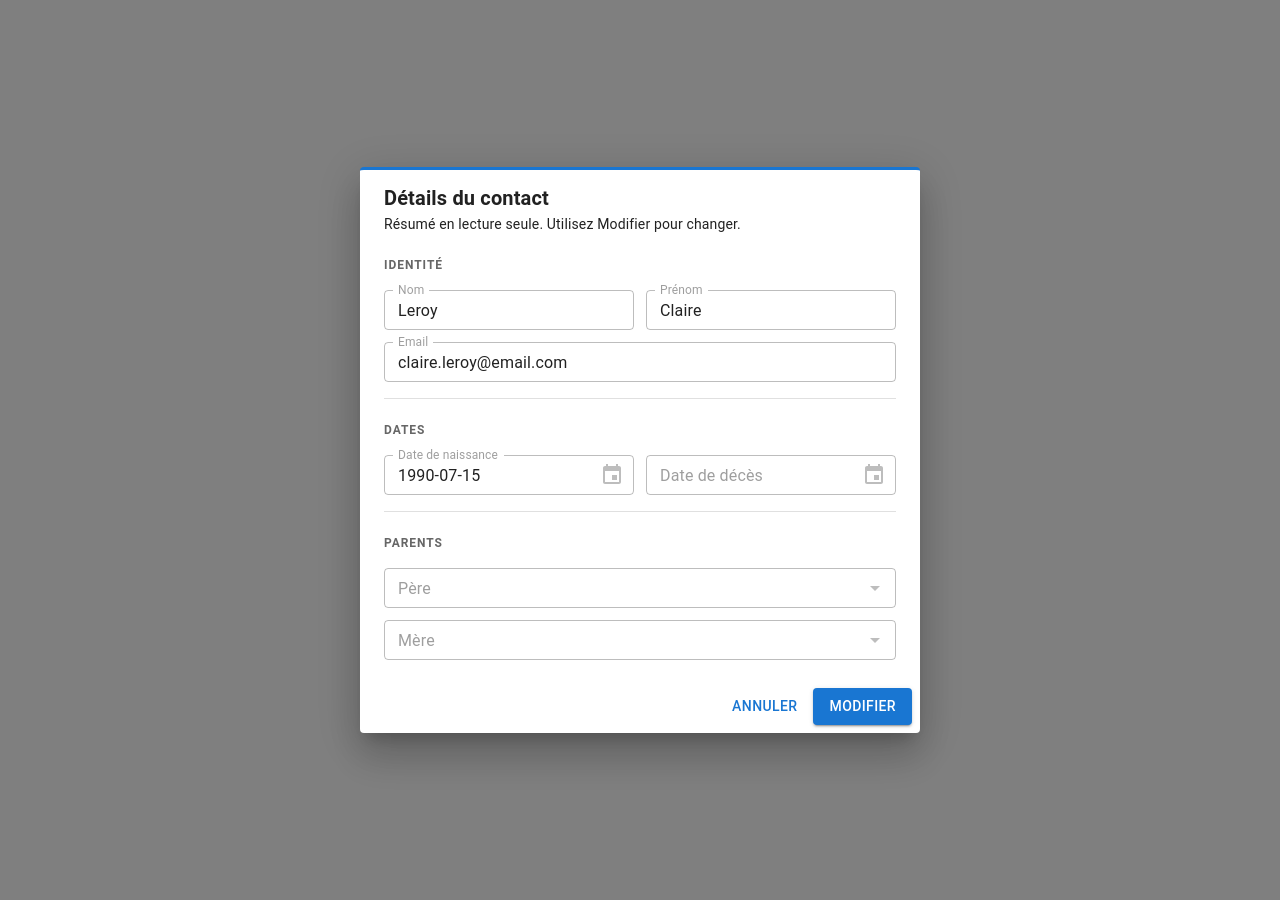
Test: ContactModal › should switch to edit mode when "Modifier" is clicked in view mode
Note: Passage en mode édition via le bouton Modifier
Click the button "Modifier".
click(863, 706)  # box [814,688,912,724]
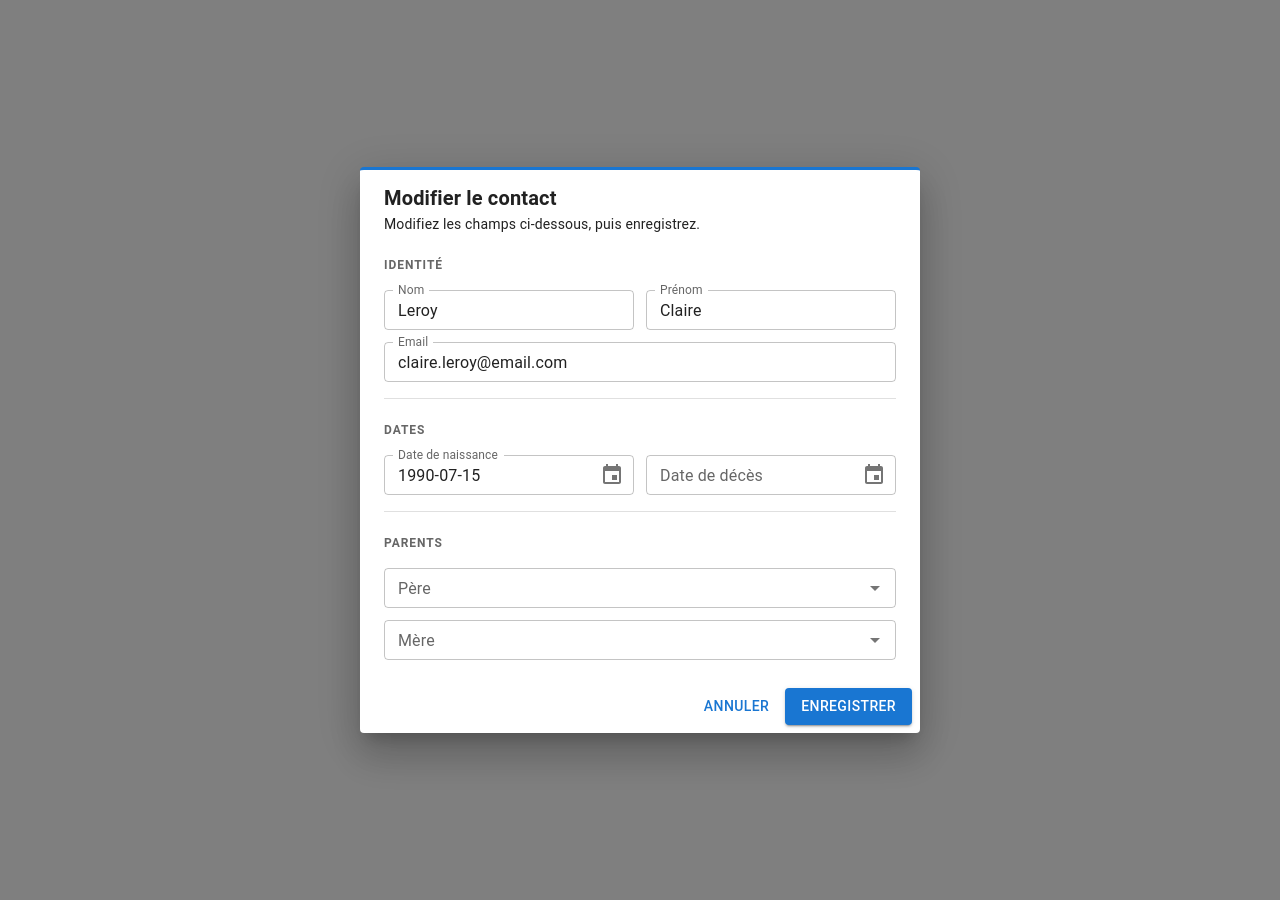
Check: the field labelled "Nom" is enabled, box [384,290,634,330]
Check: the text "Modifier le contact" is shown, box [384,186,557,210]
